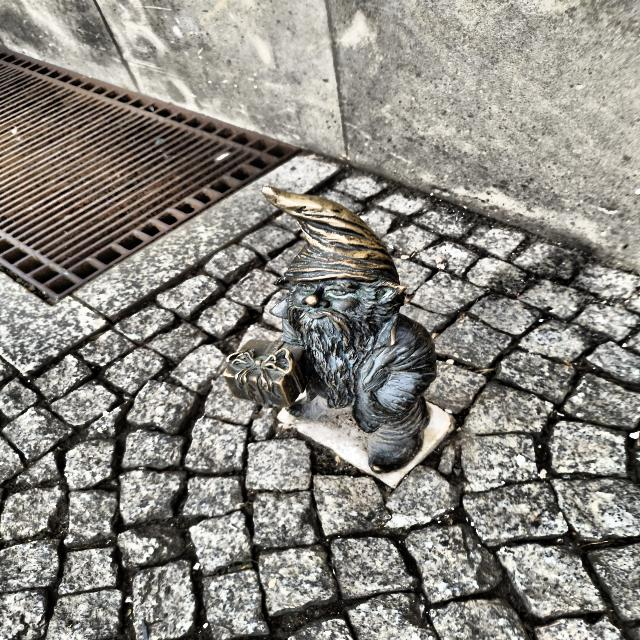Suvenirek: (223, 188, 437, 472)
